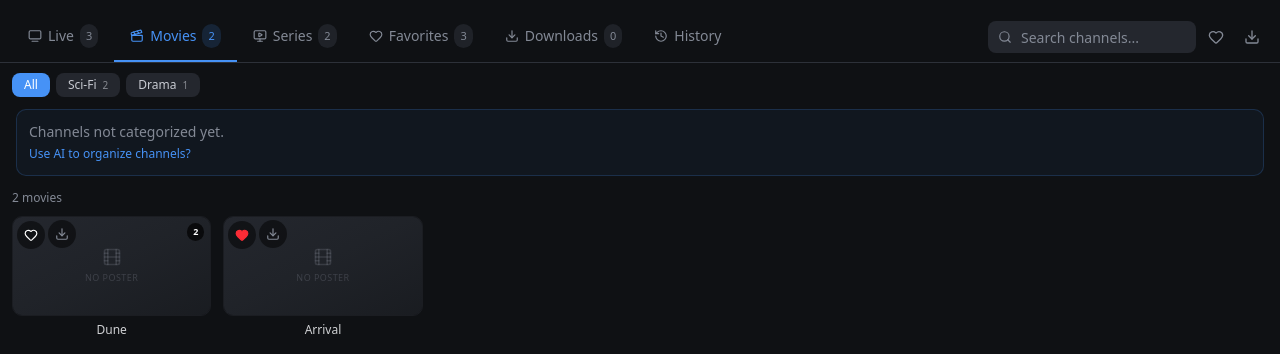
ChannelList search › filters a moment after typing rather than on every keystroke
This screenshot has width=1280, height=354.
In the field with placeholder "Search channels...": (1092, 37) [988,21,1196,53], type "arr"
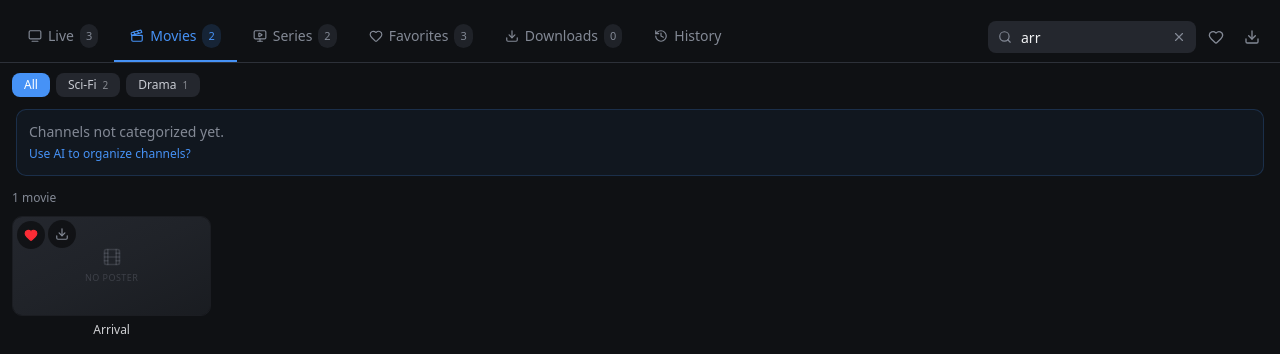
Expected: the text "Arrival" is shown, [93,321,130,338]
Expected: the text "1 movie" is shown, [12,189,56,206]
Expected: the button "Dune" is gone
